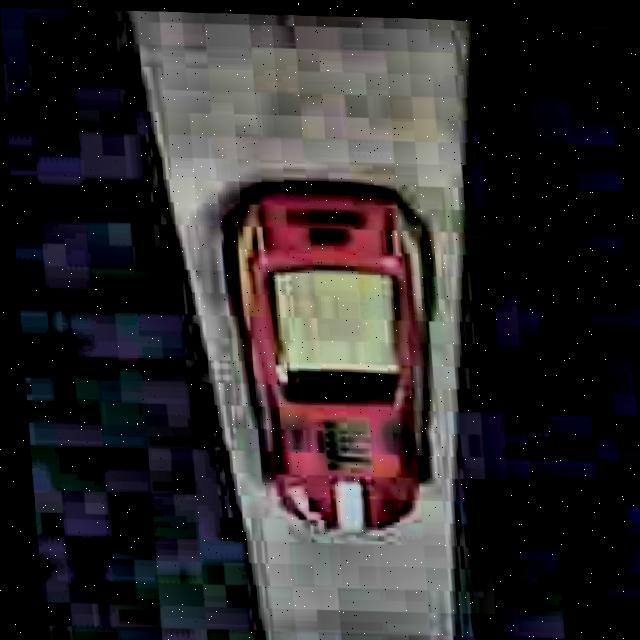car: (212, 159, 456, 542)
